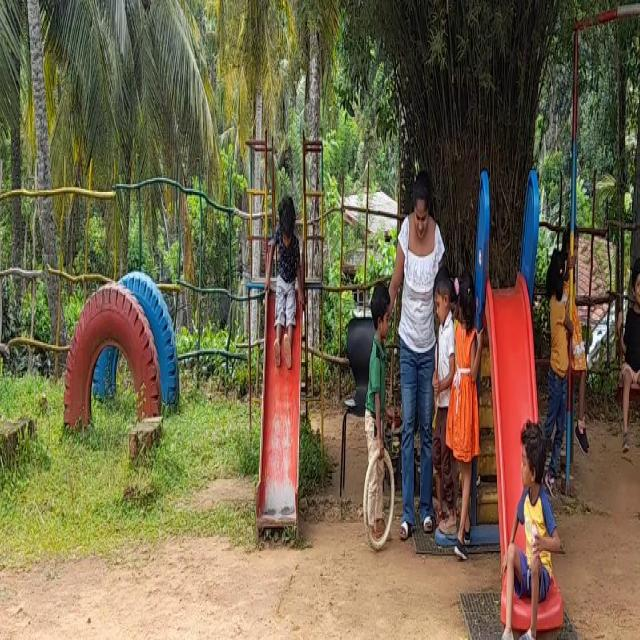child: (507, 421, 558, 640), (363, 276, 393, 542), (457, 278, 487, 540), (272, 198, 300, 389), (619, 247, 640, 445)
